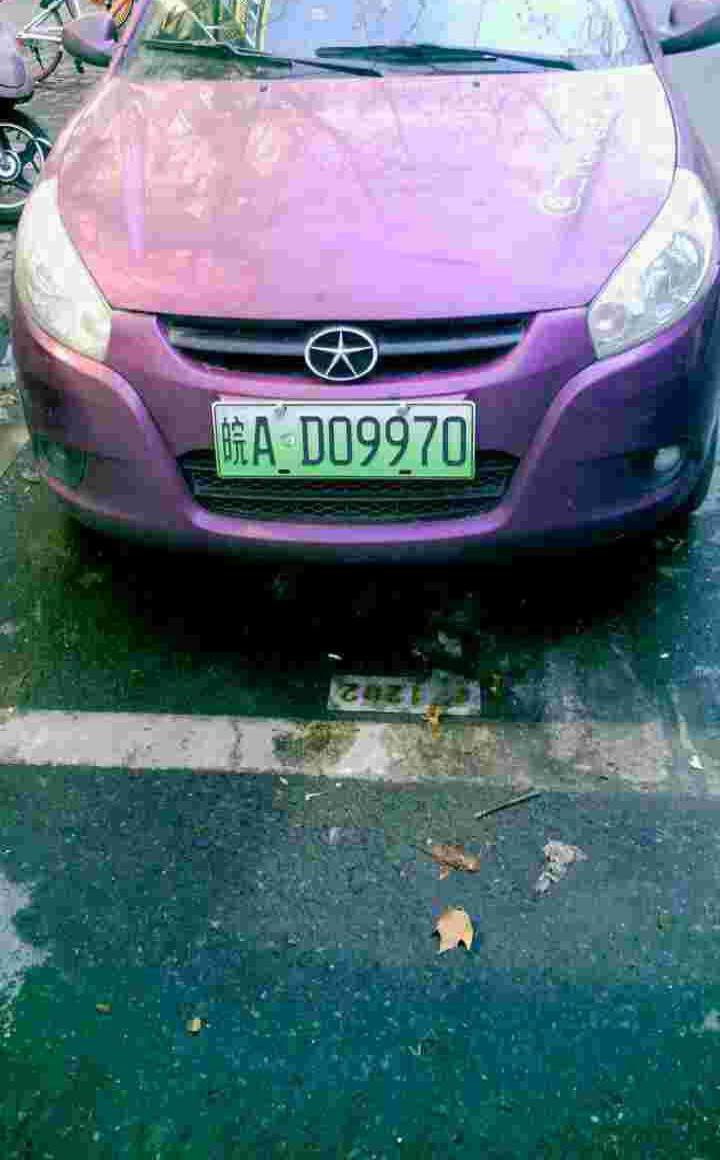car_id: (214, 403, 472, 476)
